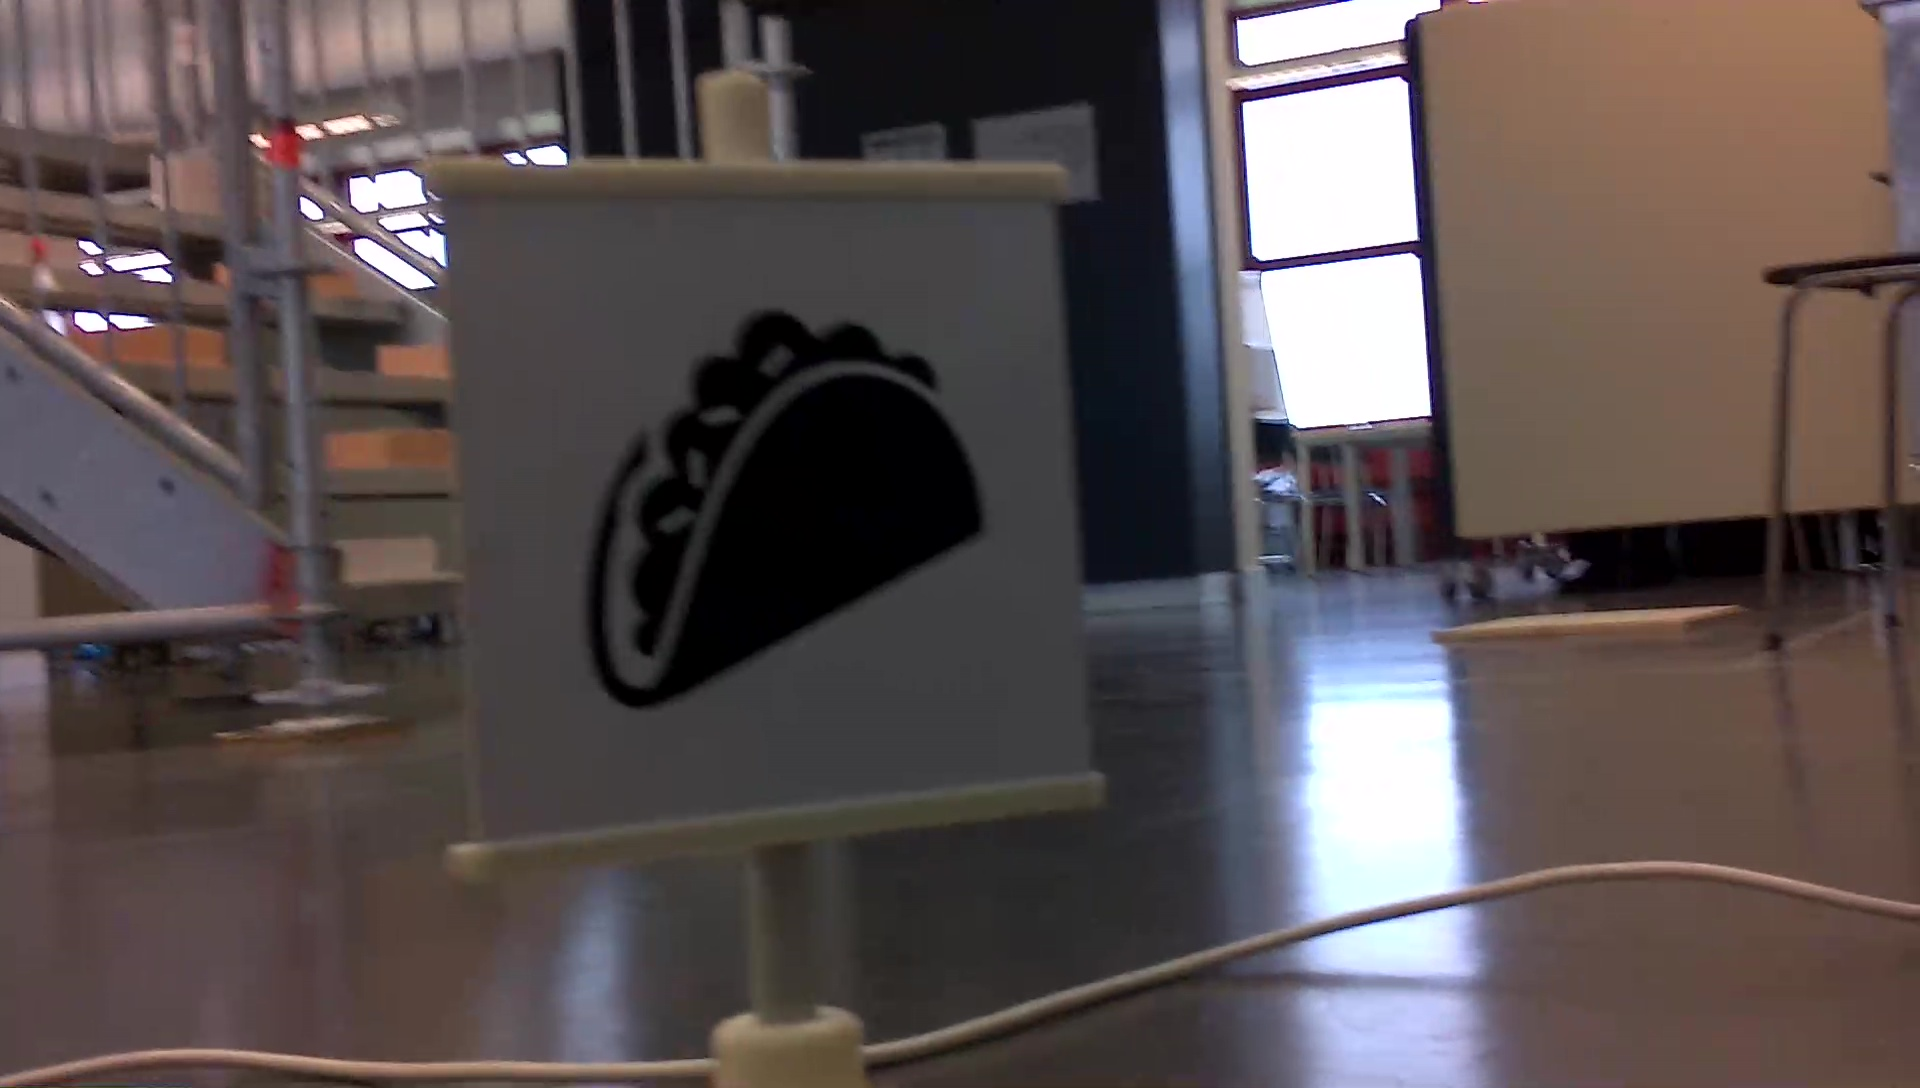brick: (320, 427, 452, 469), (343, 531, 430, 578), (377, 342, 443, 375)
taco: (570, 295, 1002, 720)
